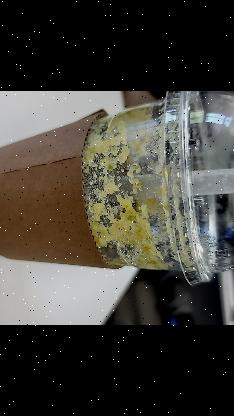Others: (0, 91, 234, 319), (159, 91, 234, 285), (128, 171, 234, 204)
